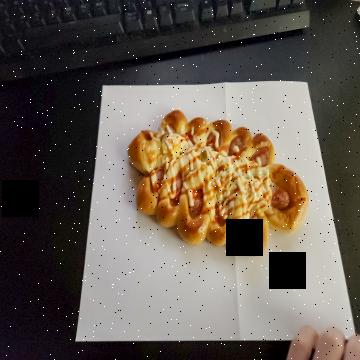pizza_bread: (127, 109, 308, 255)
